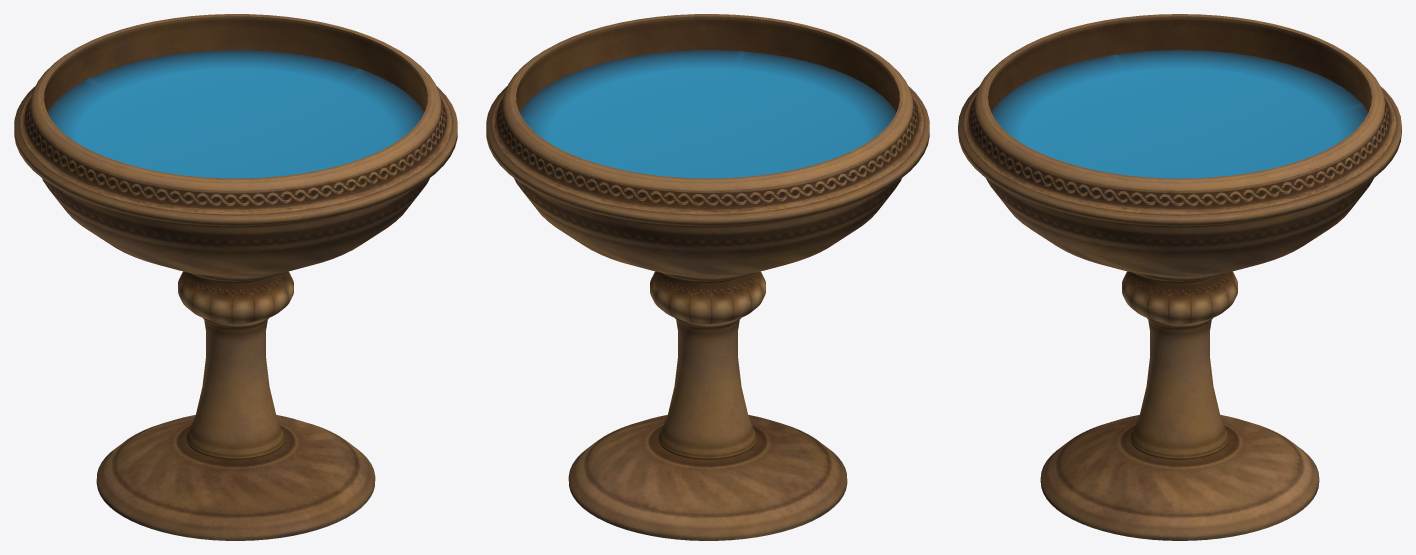
File: SM_BronzeLaver.glb
3 views of the same model, side by side, from view 1: azimuth 30°, elevation 25°; view 2: azimuth 150°, elevation 25°; view 3: azimuth 270°, elevation 25° (orthographic).
Parts seen in each view (by area): view 1: SM_Laver, SM_Water; view 2: SM_Laver, SM_Water; view 3: SM_Laver, SM_Water.
Boxes of the visible parts, x1=… form: SM_Laver: x1=14, y1=14, x2=457, y2=540; SM_Water: x1=47, y1=50, x2=424, y2=178; SM_Laver: x1=486, y1=14, x2=929, y2=540; SM_Water: x1=519, y1=50, x2=896, y2=178; SM_Laver: x1=958, y1=14, x2=1401, y2=540; SM_Water: x1=991, y1=50, x2=1368, y2=178.
Bounding box in the file's own units: 0.9407 × 0.8998 × 0.9407.
Materials: 2 (2 with a texture image).
